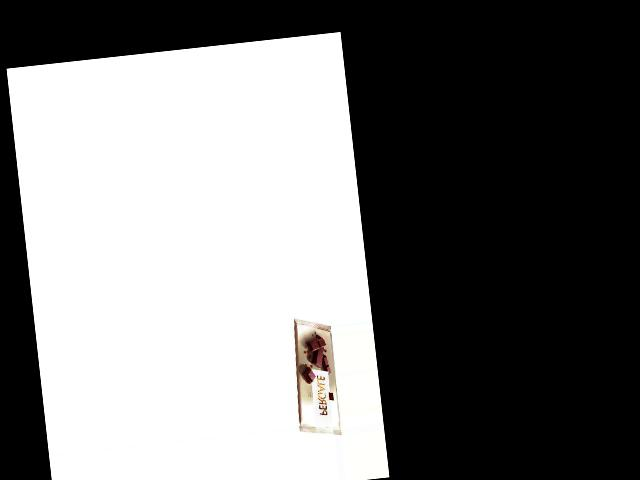chocolate: (288, 312, 342, 440)
